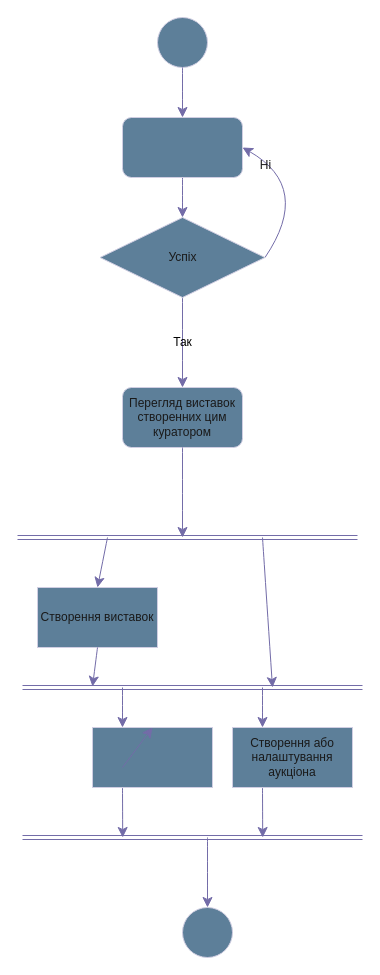
Image size: 380x975. Some labels were removed from this diagram. The box of each missing label's shape, as (x1, y1, x2, y2) in pixels:
Авторизація: (122, 116, 242, 178)
Редагування та видалення виставок: (92, 726, 212, 788)
